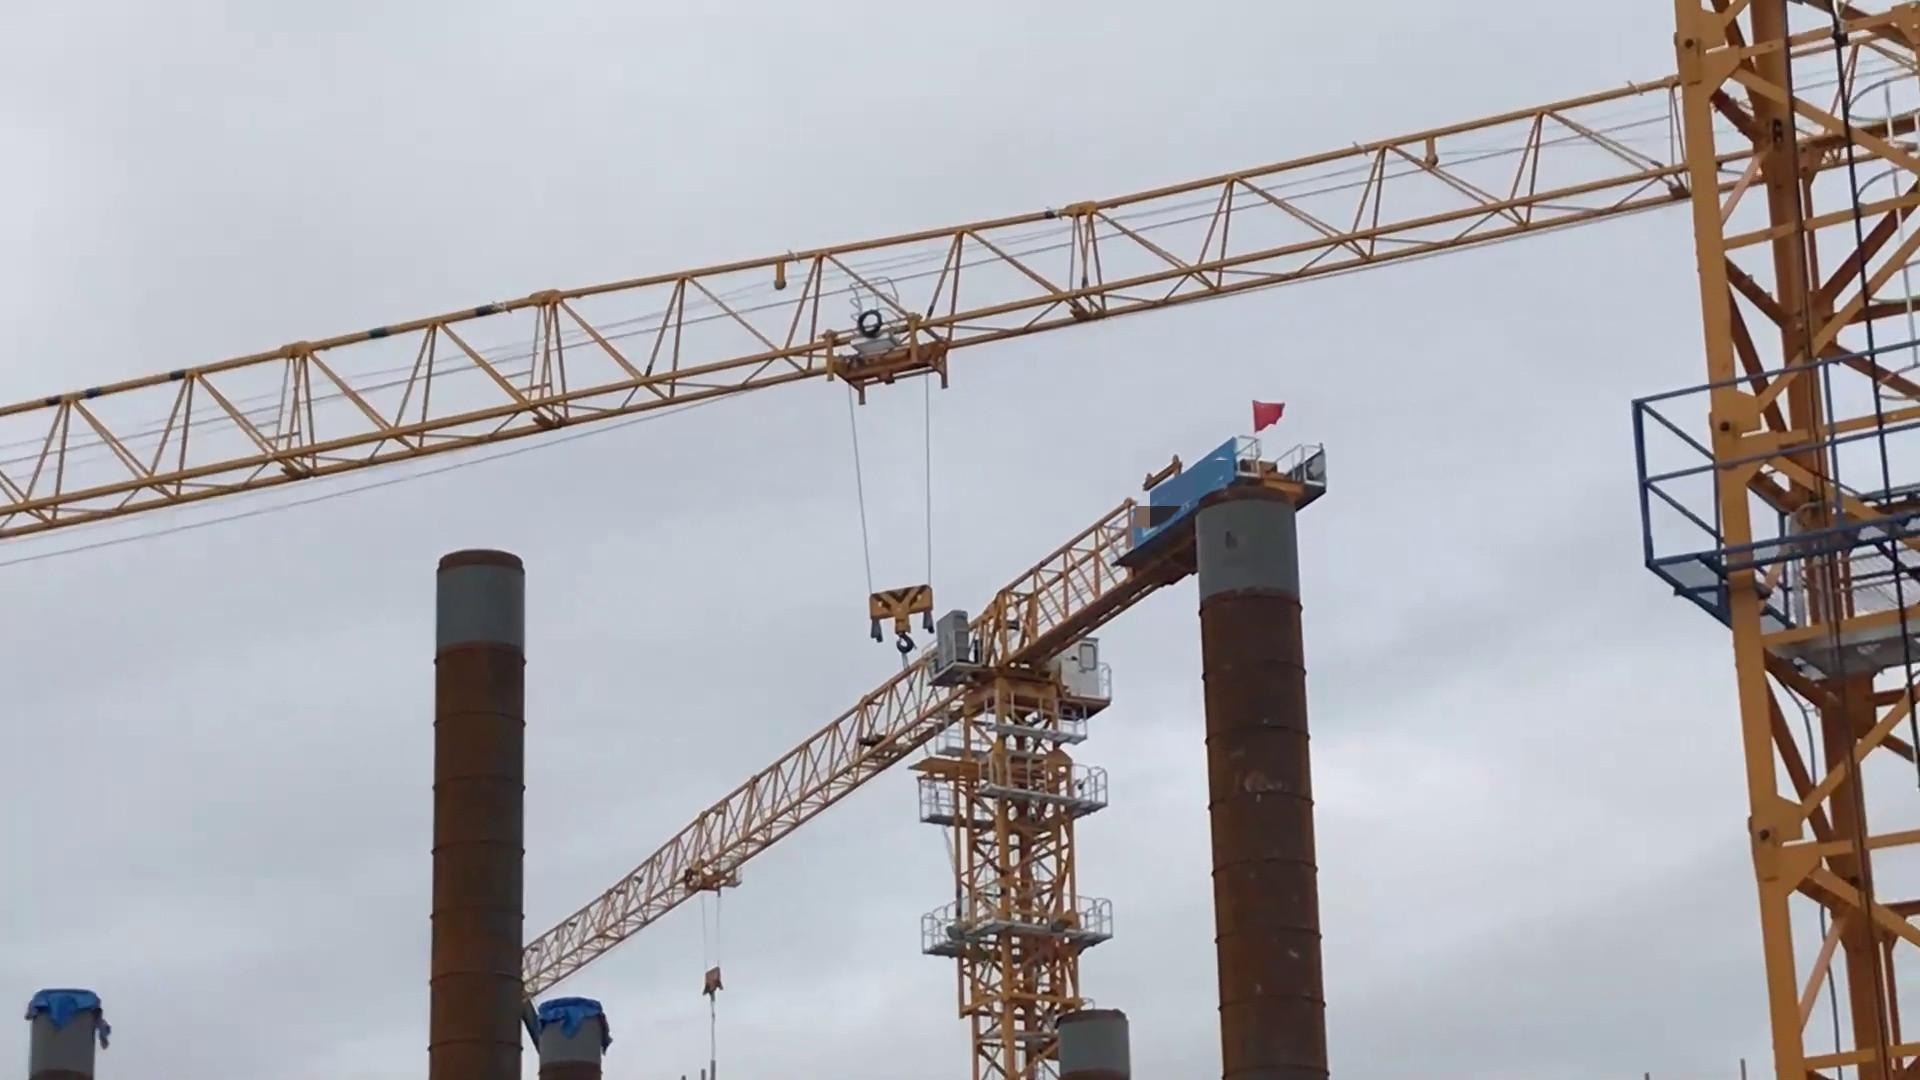hook: (858, 574, 944, 640)
